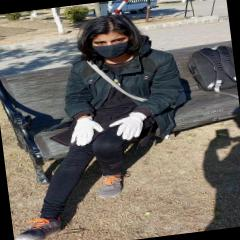gloved: (107, 110, 148, 142), (68, 114, 104, 146)
